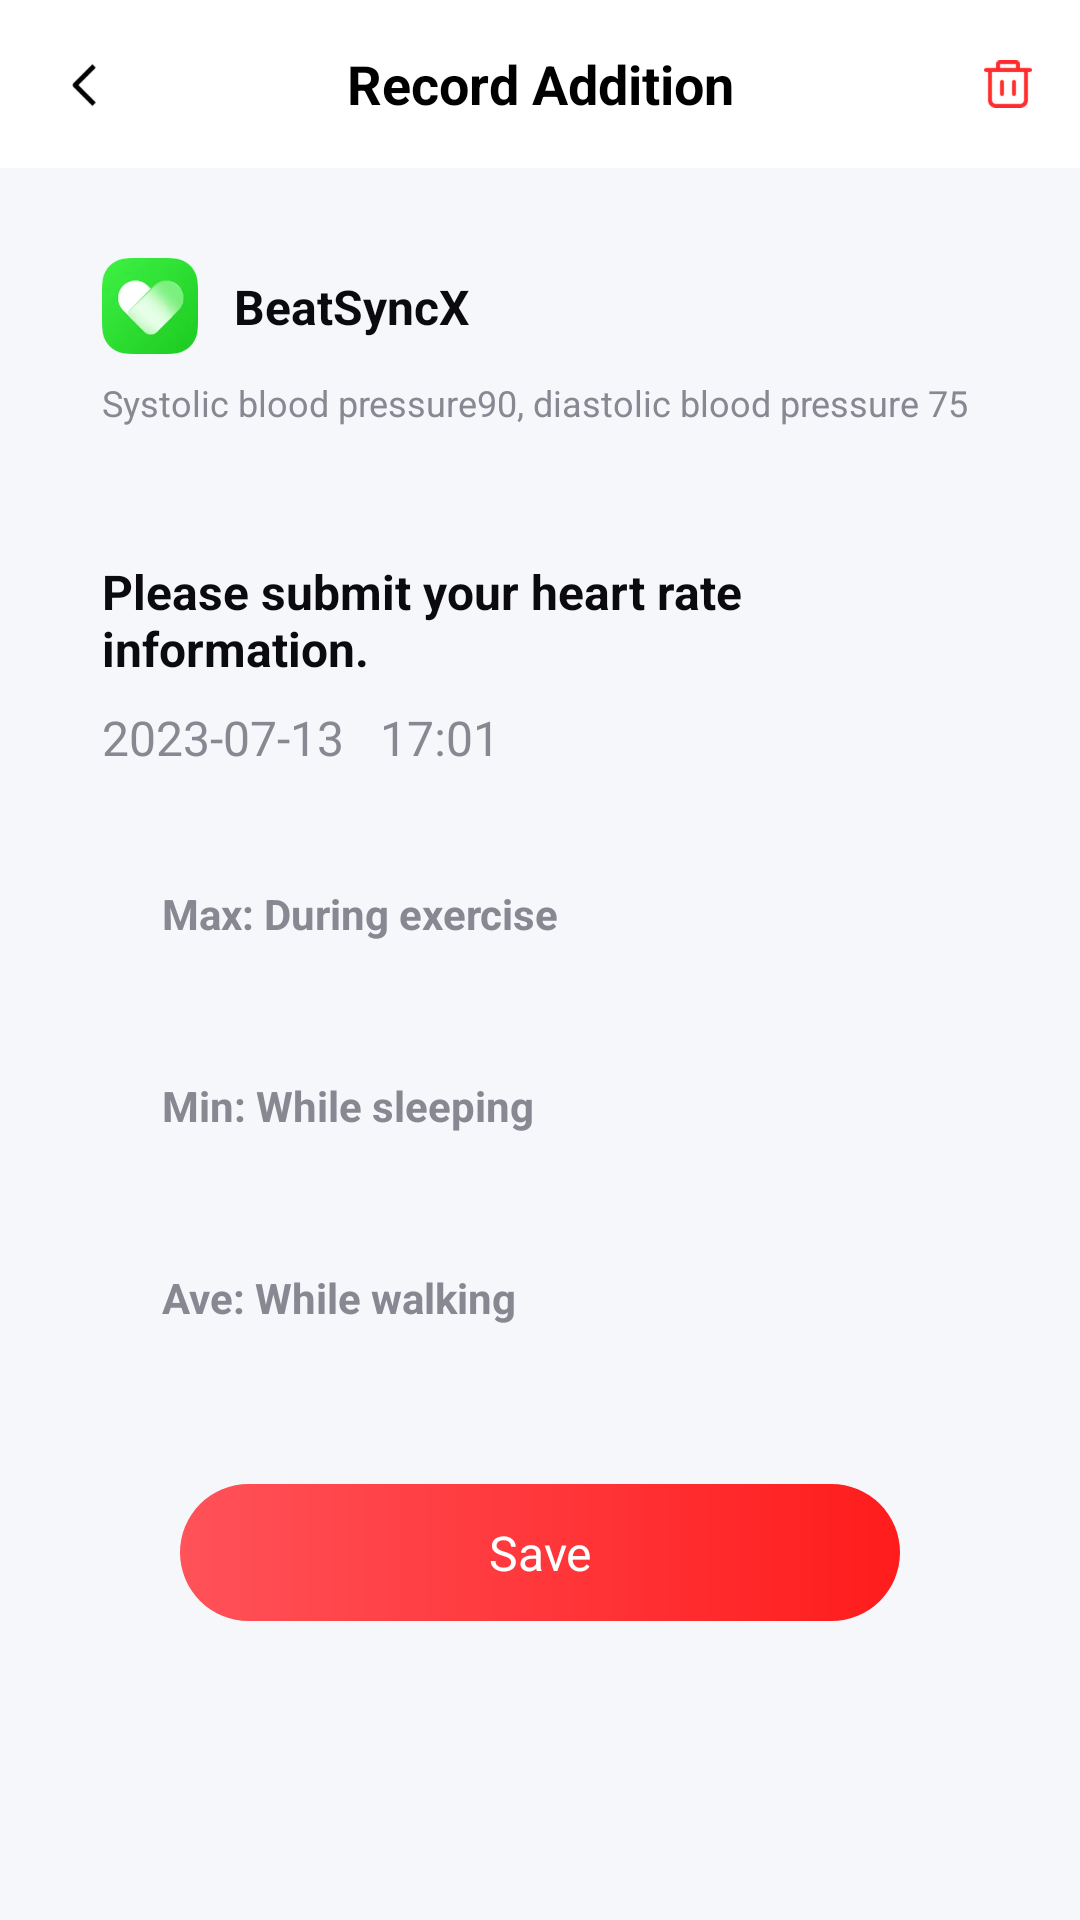

Named icons in this screenshot (1080px x 1920px) and their centers, (x=x, y=y):
delete: (x=1008, y=84)
